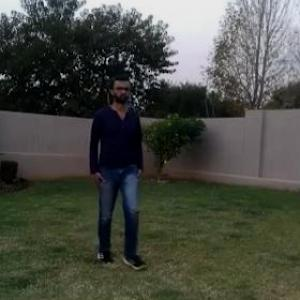follow: (94, 77, 145, 248)
